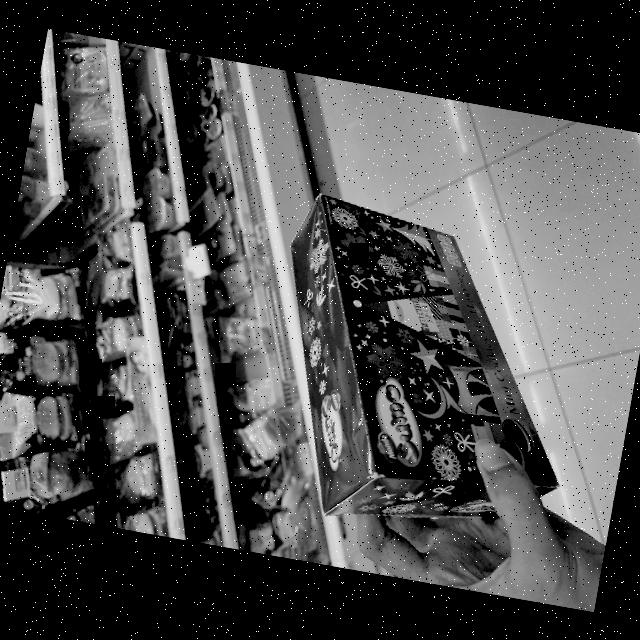cardboard_box: (238, 180, 608, 556)
